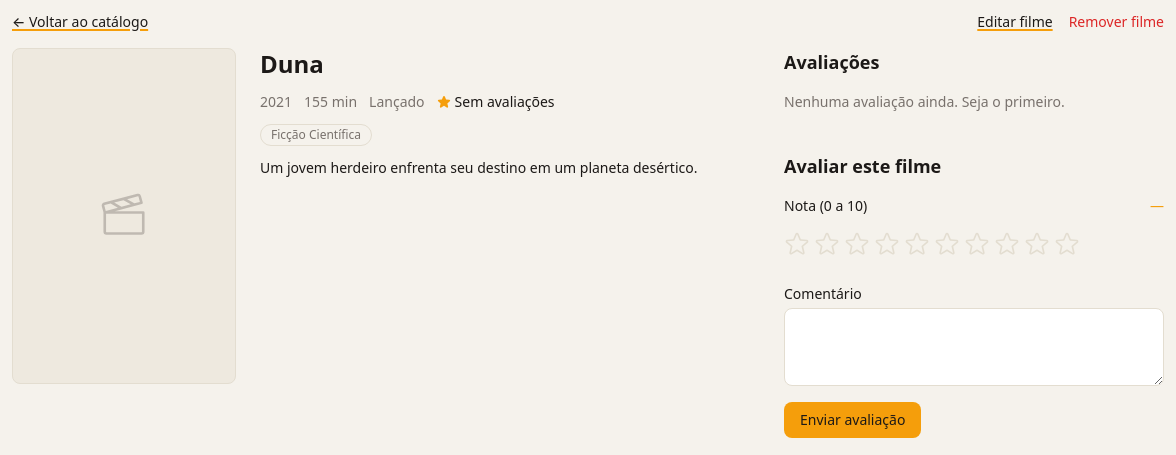
Test case: MovieDetailPage › deleting the movie › shows a pending state and disables the button while deleting
Click the button "Remover filme" at (1116, 22), box [1069,12,1164,32]
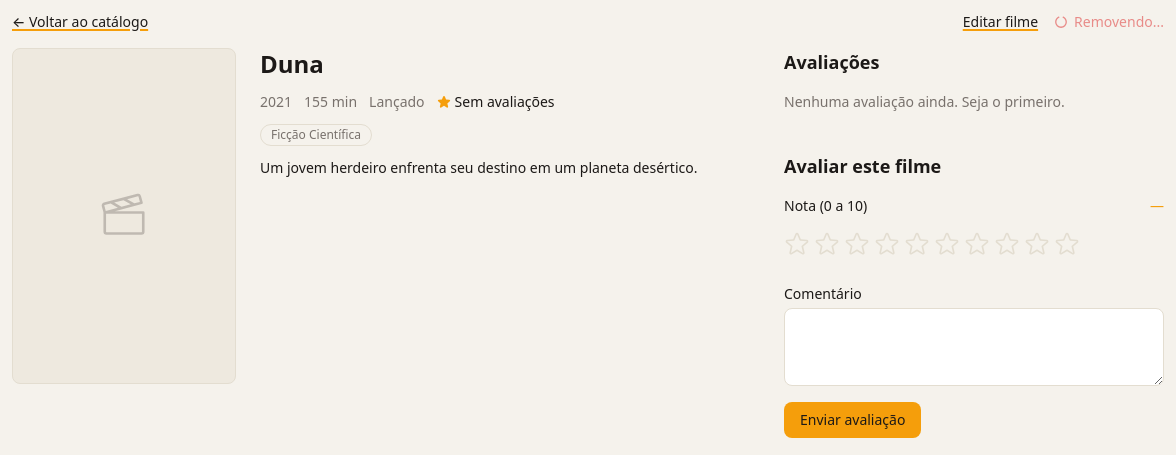
Check: the button "Removendo..." is disabled, box [1054,12,1164,32]
